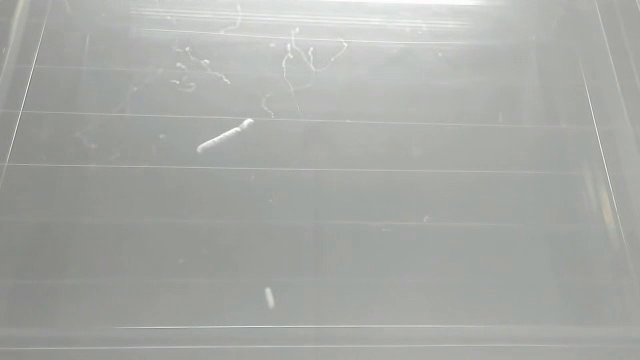alpha: (191, 116, 259, 156), (261, 283, 280, 313)
